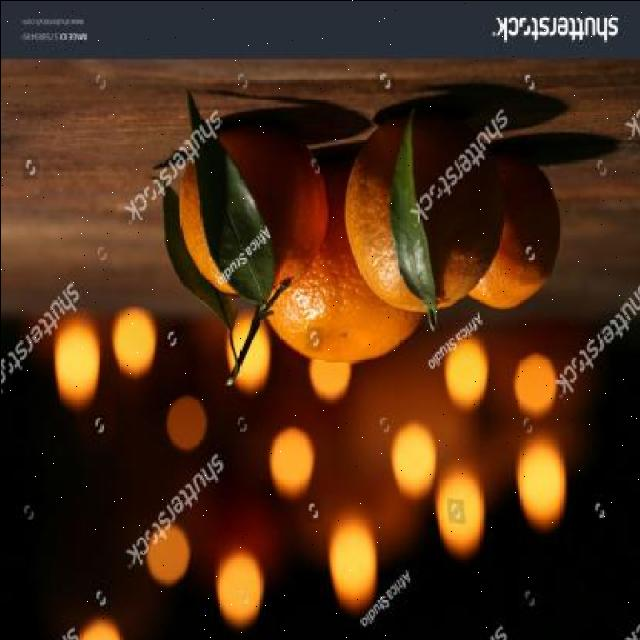Orange: (343, 109, 506, 323), (263, 163, 423, 365), (178, 123, 329, 299), (466, 151, 562, 311)
